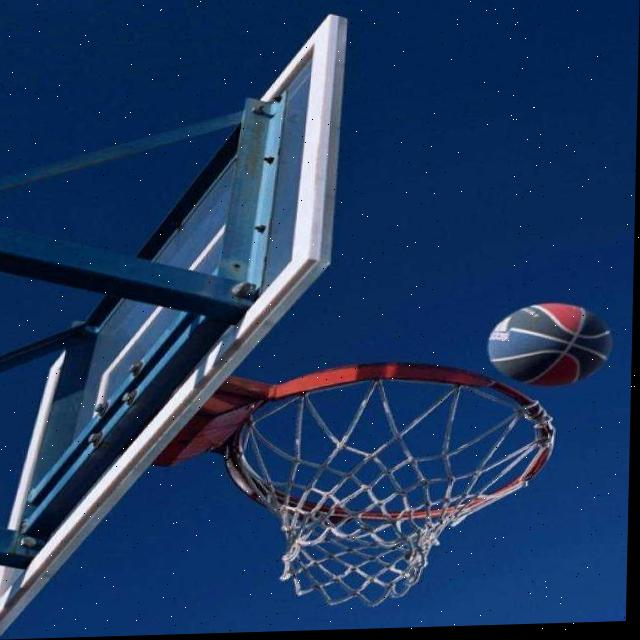Basketball: (489, 300, 612, 388)
